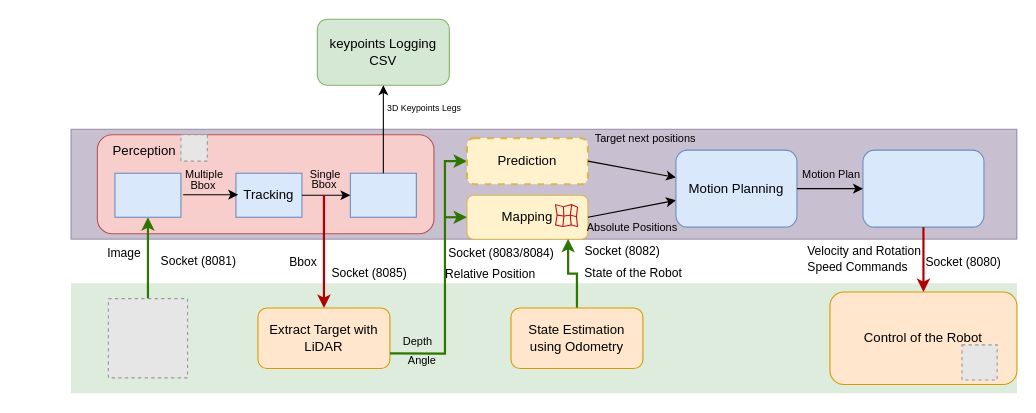
Some shapes in this 1036 by 413 pixel diagram are drawn without their labels. Grey dashed boxes stand in for pictures. The shapes that lost their labels are listed below. From the top down, each one's box as (x1, y1, x2, y2) in pixels, then its label:
(114, 172, 181, 217): Detection
(349, 172, 416, 217): Pose Estimation
(70, 128, 1017, 239): Server
(862, 149, 984, 227): Control
(70, 283, 1016, 393): Loomo
